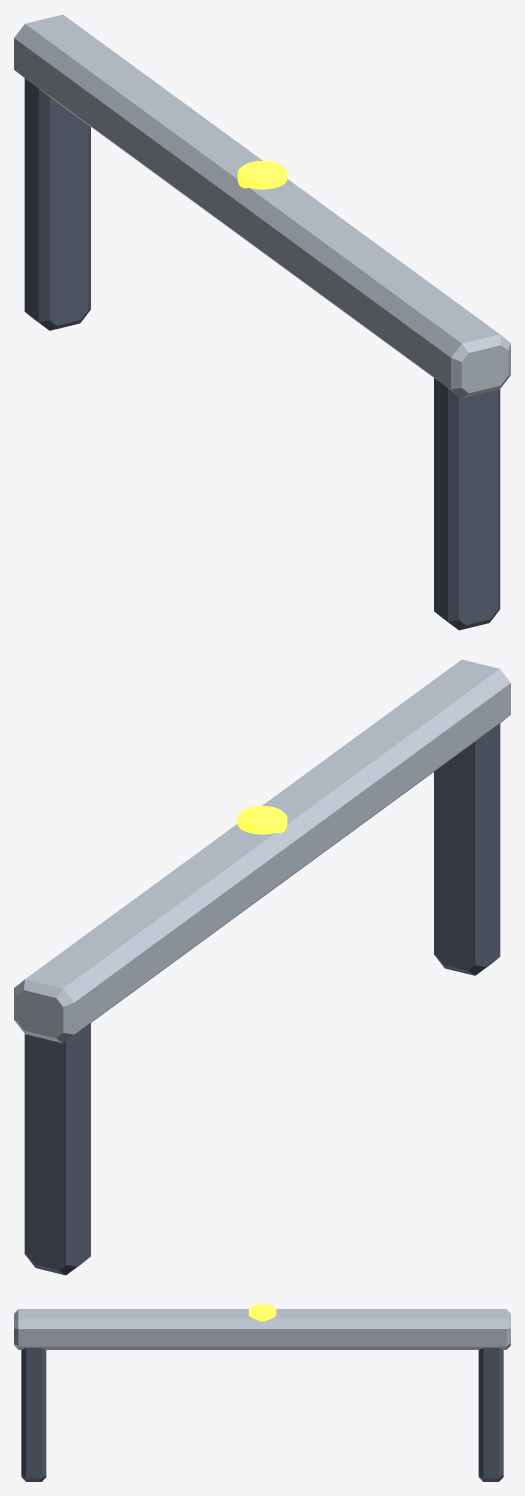
File: tower_nova_rate_s2.glb
3 views of the same model, one above another, from view 1: azimuth 30°, elevation 25°; view 2: azimuth 150°, elevation 25°; view 3: azimuth 270°, elevation 25° (orthographic). The views are drawn at different scales.
Parts seen in each view (by area): view 1: nova_hoist_rail, nova_hoist_rail_post-0.46, nova_hoist_rail_post0.46, nova_up_rate_l2_stud; view 2: nova_hoist_rail, nova_hoist_rail_post0.46, nova_hoist_rail_post-0.46, nova_up_rate_l2_stud; view 3: nova_hoist_rail, nova_hoist_rail_post-0.46, nova_hoist_rail_post0.46, nova_up_rate_l2_stud.
Part boxes in pixels (x1,y1,x2,y2): nova_hoist_rail: (14,14,510,398); nova_hoist_rail_post-0.46: (434,378,500,630); nova_hoist_rail_post0.46: (24,78,90,330); nova_up_rate_l2_stud: (237,160,287,189); nova_hoist_rail: (14,659,510,1043); nova_hoist_rail_post0.46: (24,1023,90,1275); nova_hoist_rail_post-0.46: (434,723,500,975); nova_up_rate_l2_stud: (237,805,287,834); nova_hoist_rail: (14,1309,510,1349); nova_hoist_rail_post-0.46: (21,1348,46,1481); nova_hoist_rail_post0.46: (478,1348,503,1481); nova_up_rate_l2_stud: (248,1304,276,1321).
Bounding box in the file's own units: 0.078 × 0.374 × 1.
